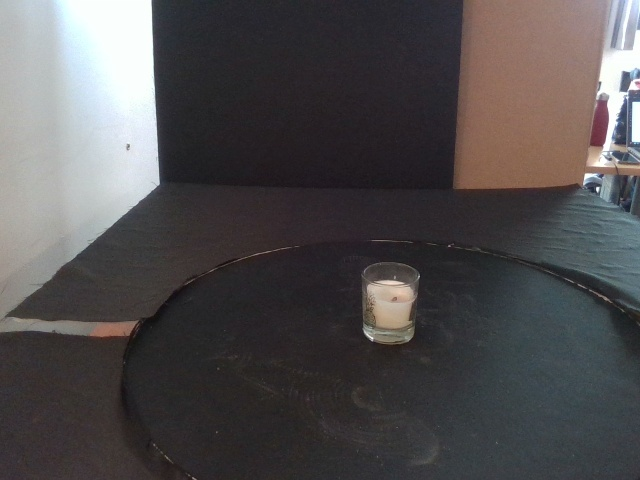candle: (360, 261, 419, 344)
